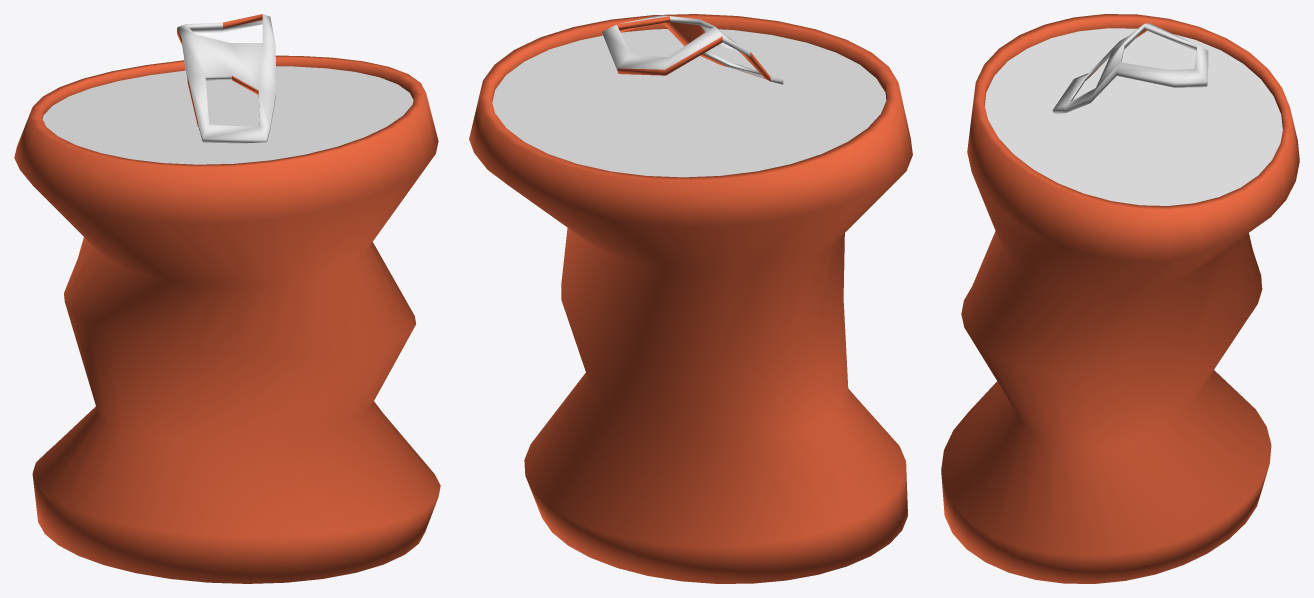
Rendered from cantext.fbx.
3 renders of one model, left to right at view 1: azimuth 30°, elevation 25°; view 2: azimuth 150°, elevation 25°; view 3: azimuth 270°, elevation 25°, orthographic. The views are drawn at different scales.
Visible parts, largest first — view 1: Can 1.002; view 2: Can 1.002; view 3: Can 1.002.
Boxes of the visible parts, bbox=[...] form: Can 1.002: bbox=[14, 14, 440, 583]; Can 1.002: bbox=[469, 14, 912, 583]; Can 1.002: bbox=[941, 14, 1299, 583].
Size of the model in its own units: 602 by 728 by 498.
